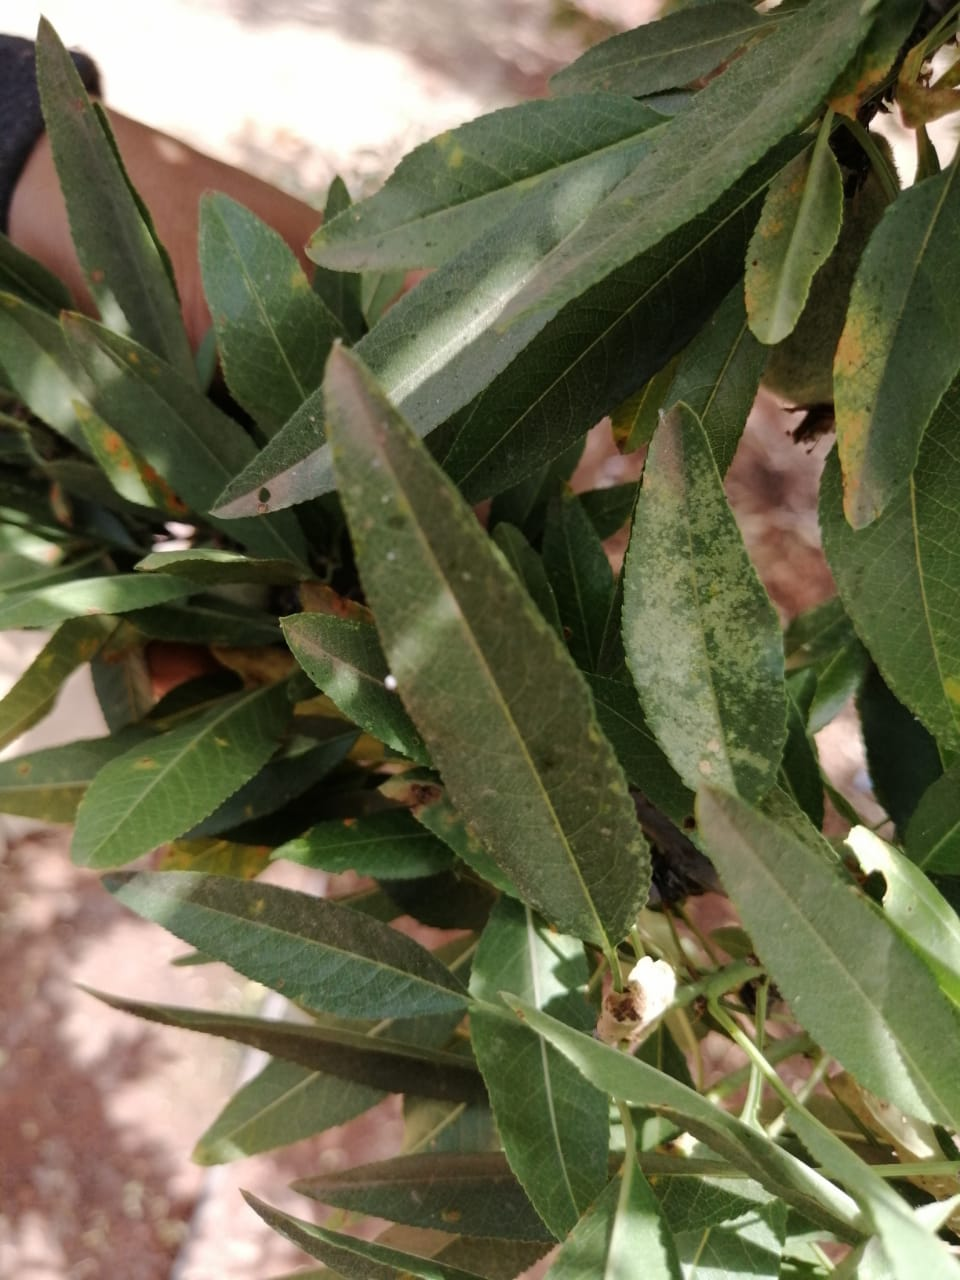faux tigre: (318, 334, 651, 952), (615, 398, 786, 802)
